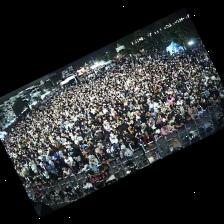person: (128, 138, 147, 159), (63, 154, 77, 171), (66, 146, 80, 162), (83, 130, 96, 145), (148, 98, 158, 115), (161, 122, 174, 135), (173, 115, 186, 128), (143, 131, 154, 146), (99, 150, 111, 163), (132, 127, 143, 141), (37, 165, 48, 179), (44, 162, 56, 174), (120, 145, 131, 158), (79, 158, 89, 172), (87, 156, 98, 168), (85, 147, 95, 159), (148, 118, 158, 130), (96, 143, 104, 157), (48, 172, 59, 182), (165, 106, 174, 118), (202, 99, 211, 111), (109, 134, 118, 146), (187, 102, 195, 115), (102, 129, 110, 142), (176, 103, 184, 116), (123, 129, 131, 142), (48, 151, 58, 161), (112, 146, 119, 160), (94, 130, 102, 142), (106, 144, 113, 157), (195, 104, 202, 117), (54, 142, 63, 152), (102, 121, 110, 132), (63, 168, 71, 179), (167, 114, 174, 126), (182, 101, 188, 115), (190, 110, 199, 119), (153, 130, 162, 139), (29, 162, 37, 172), (98, 137, 106, 146), (140, 123, 146, 135), (116, 129, 123, 139), (209, 98, 216, 108), (29, 178, 35, 187), (219, 89, 223, 99), (175, 110, 180, 115)
